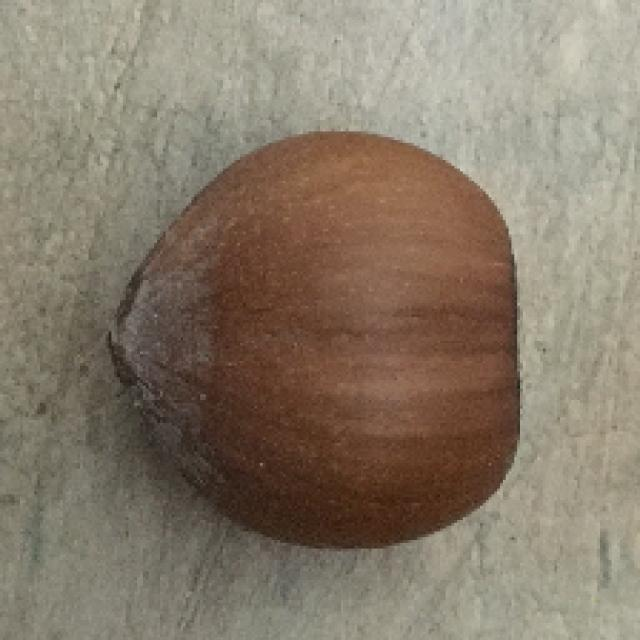qualityHazelnut: (105, 126, 530, 543)
